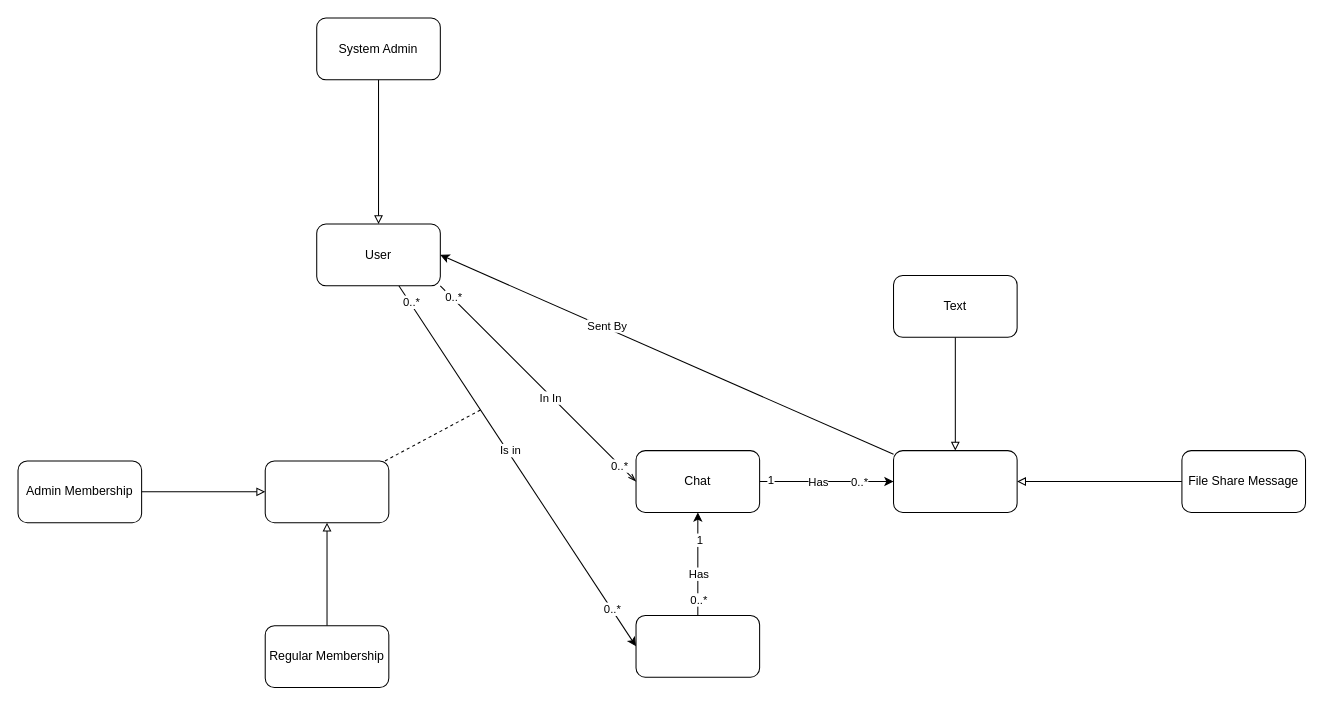
The diagram is 1324 pixels wide and 706 high, and some of its shapes have lost their labels. Each missing label, with the centre of its shape:
Message: point (954, 481)
Team: point (697, 645)
Team Membership: point (326, 491)
